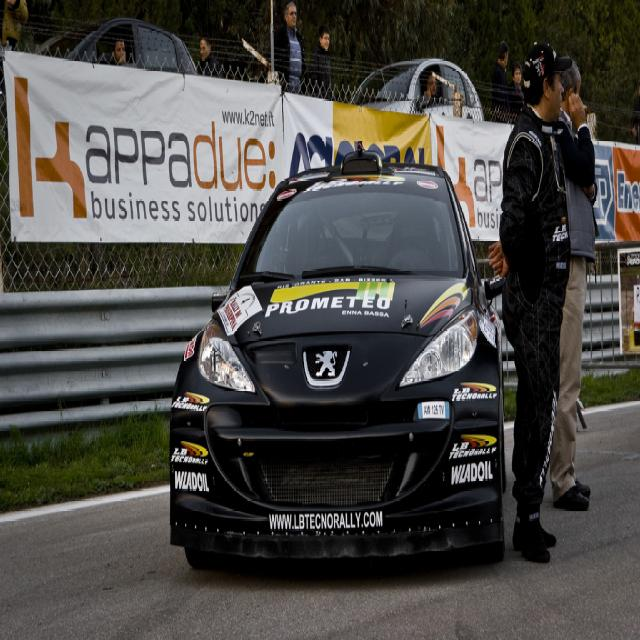car: (170, 147, 504, 573)
